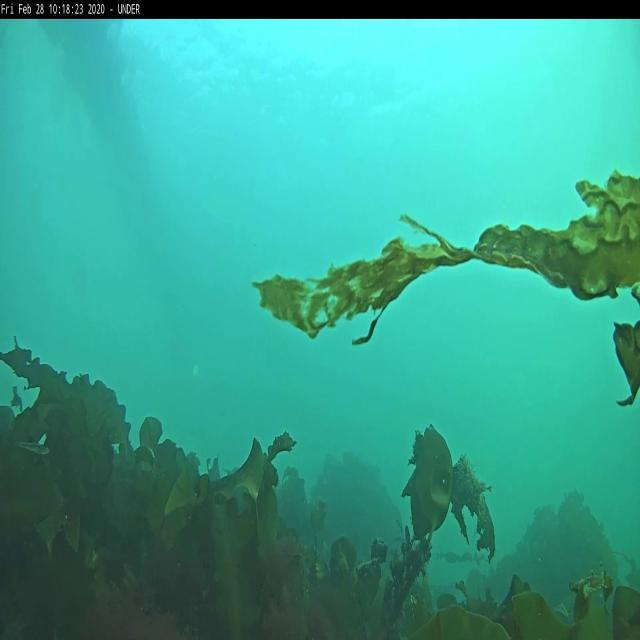fish: (20, 437, 52, 457)
